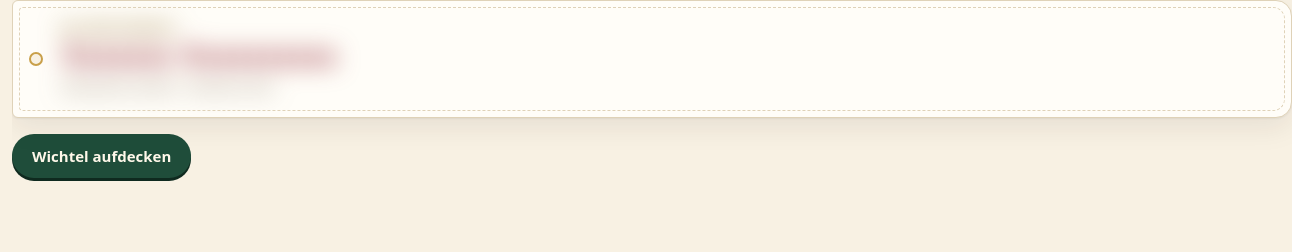
AssignmentReveal › stays hidden and explains when loading fails
The image size is (1292, 252).
Click the button "Wichtel aufdecken": (102, 156) [12, 134, 191, 178]
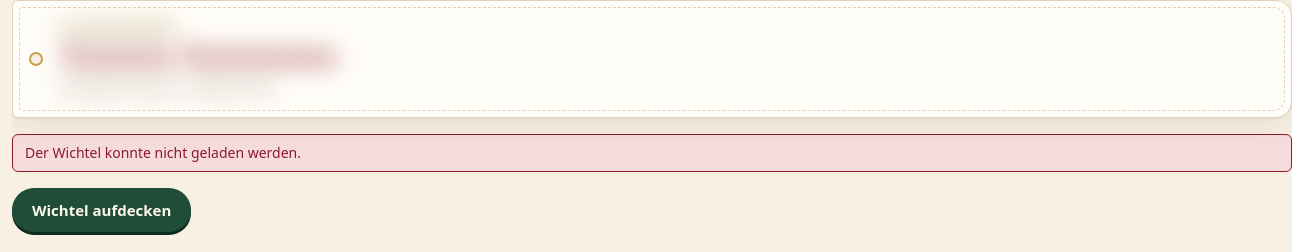
Expected: the element with test id "assignment-dummy" is shown, [61, 20, 337, 96]
Expected: the message "Der Wichtel konnte nicht geladen werden." is shown, [12, 134, 1291, 172]
